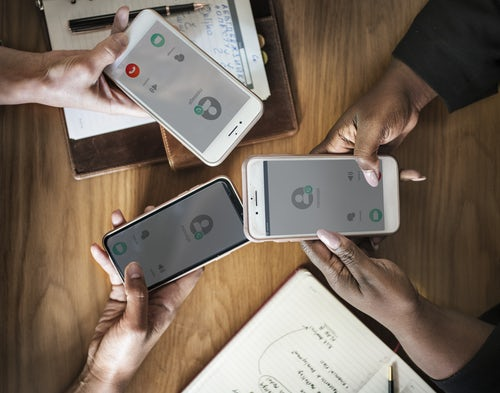phone: (96, 7, 267, 163), (93, 188, 259, 273), (243, 159, 408, 232)
